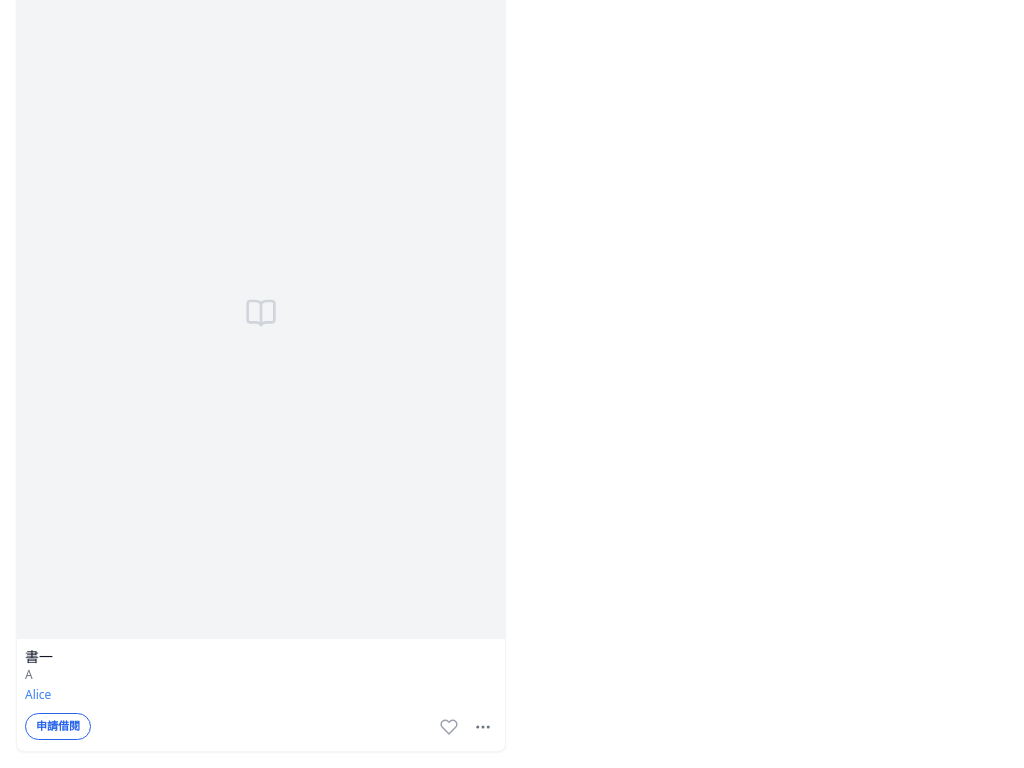
Test: FamilyShelfPage — borrow failure notice › shows the mapped failure copy in a role=alert banner when the create rejects
This screenshot has width=1024, height=768.
(page scrolled)
Expected: the text "書一" is shown, [25,647,53,666]
Click the button "申請借閱": {"x": 58, "y": 727} [25,713,91,740]
(page scrolled)
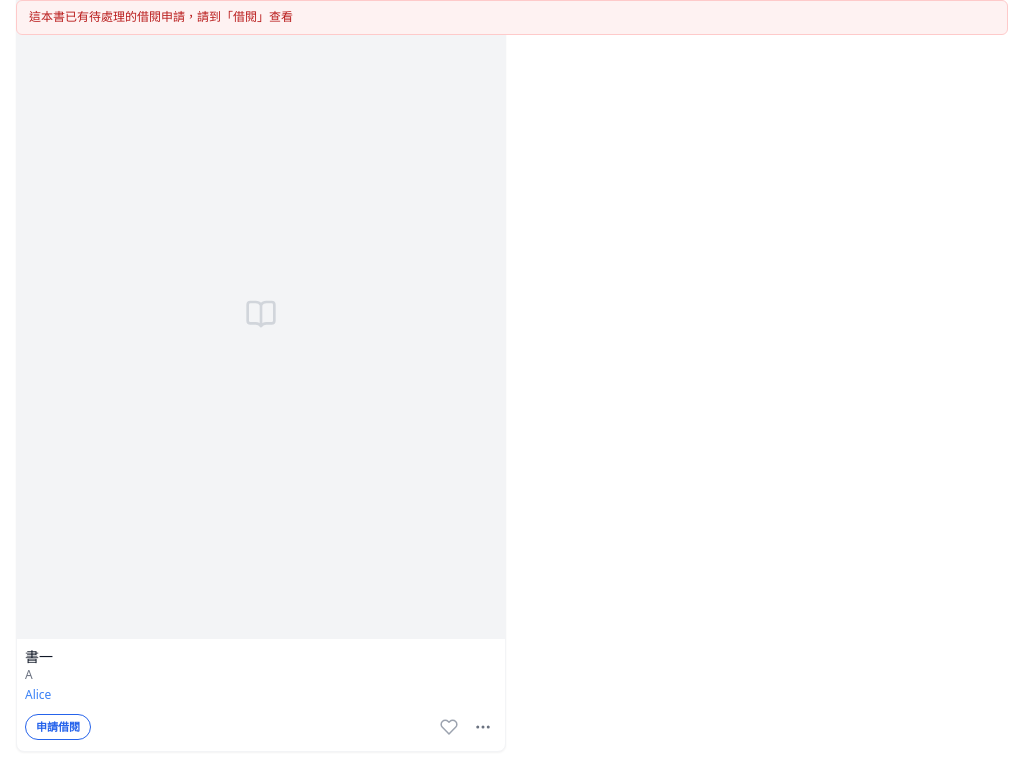
Result: the message reads "這本書已有待處理的借閱申請，請到「借閱」查看" at [29,8,293,25]
